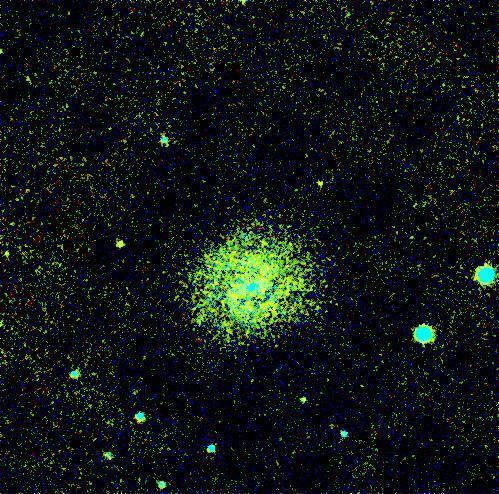star: (304, 167, 334, 197)
